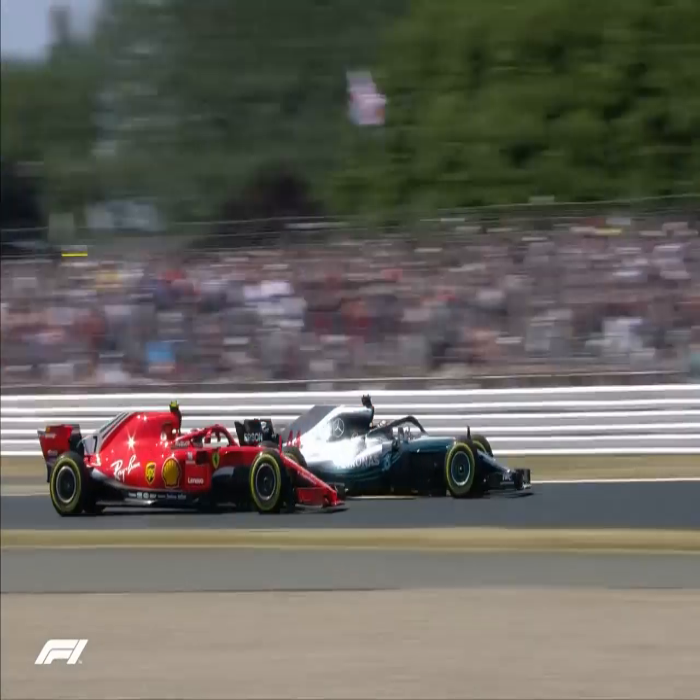f1_car: (32, 399, 350, 528), (214, 395, 540, 501)
